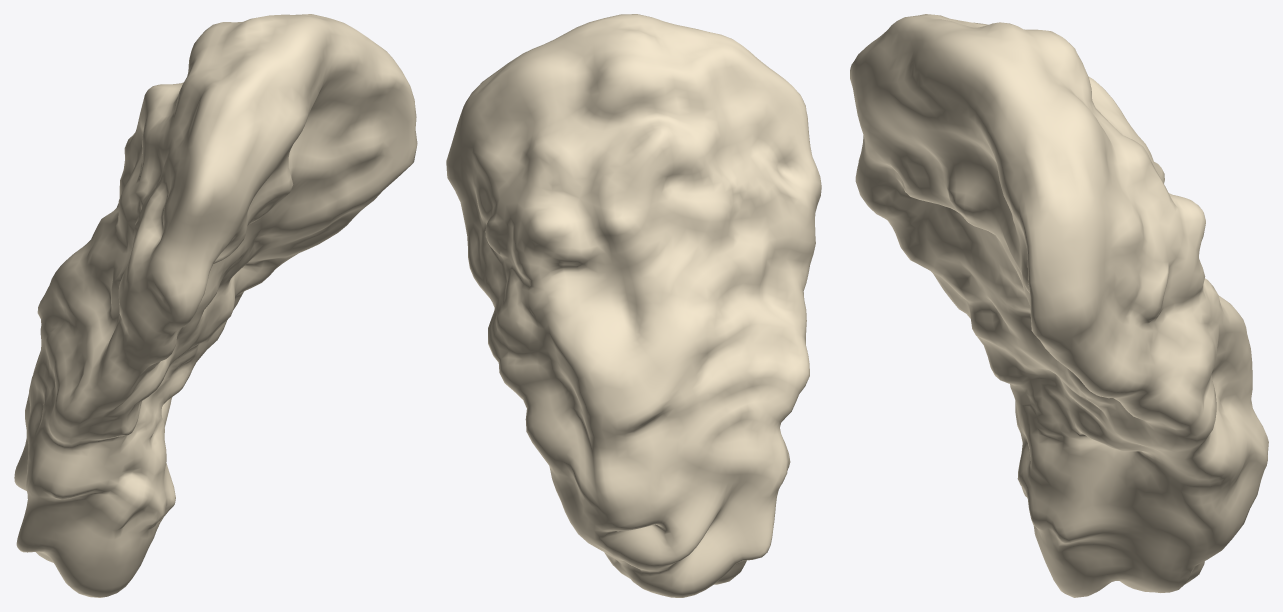
Rendered from palatine-tonsil-male-right.glb.
3 views of the same model, side by side, from view 1: azimuth 30°, elevation 25°; view 2: azimuth 150°, elevation 25°; view 3: azimuth 270°, elevation 25° (orthographic). The views are drawn at different scales.
Parts seen in each view (by area): view 1: VH_M_palatine_tonsil_R; view 2: VH_M_palatine_tonsil_R; view 3: VH_M_palatine_tonsil_R.
Part boxes in pixels (<box>): VH_M_palatine_tonsil_R: <box>14,14,417,597</box>; VH_M_palatine_tonsil_R: <box>446,14,821,597</box>; VH_M_palatine_tonsil_R: <box>850,14,1268,597</box>.
Size of the model in its own units: 0.0168 by 0.024 by 0.0144.
